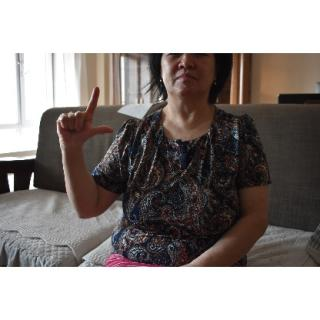LAAM: (57, 84, 117, 152)
